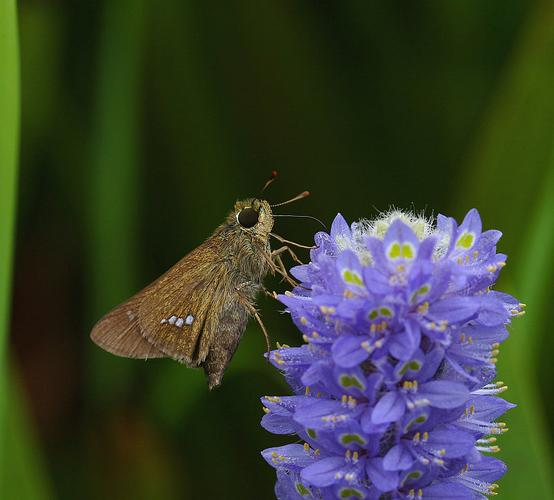Hesperiidae: (91, 178, 324, 387)
